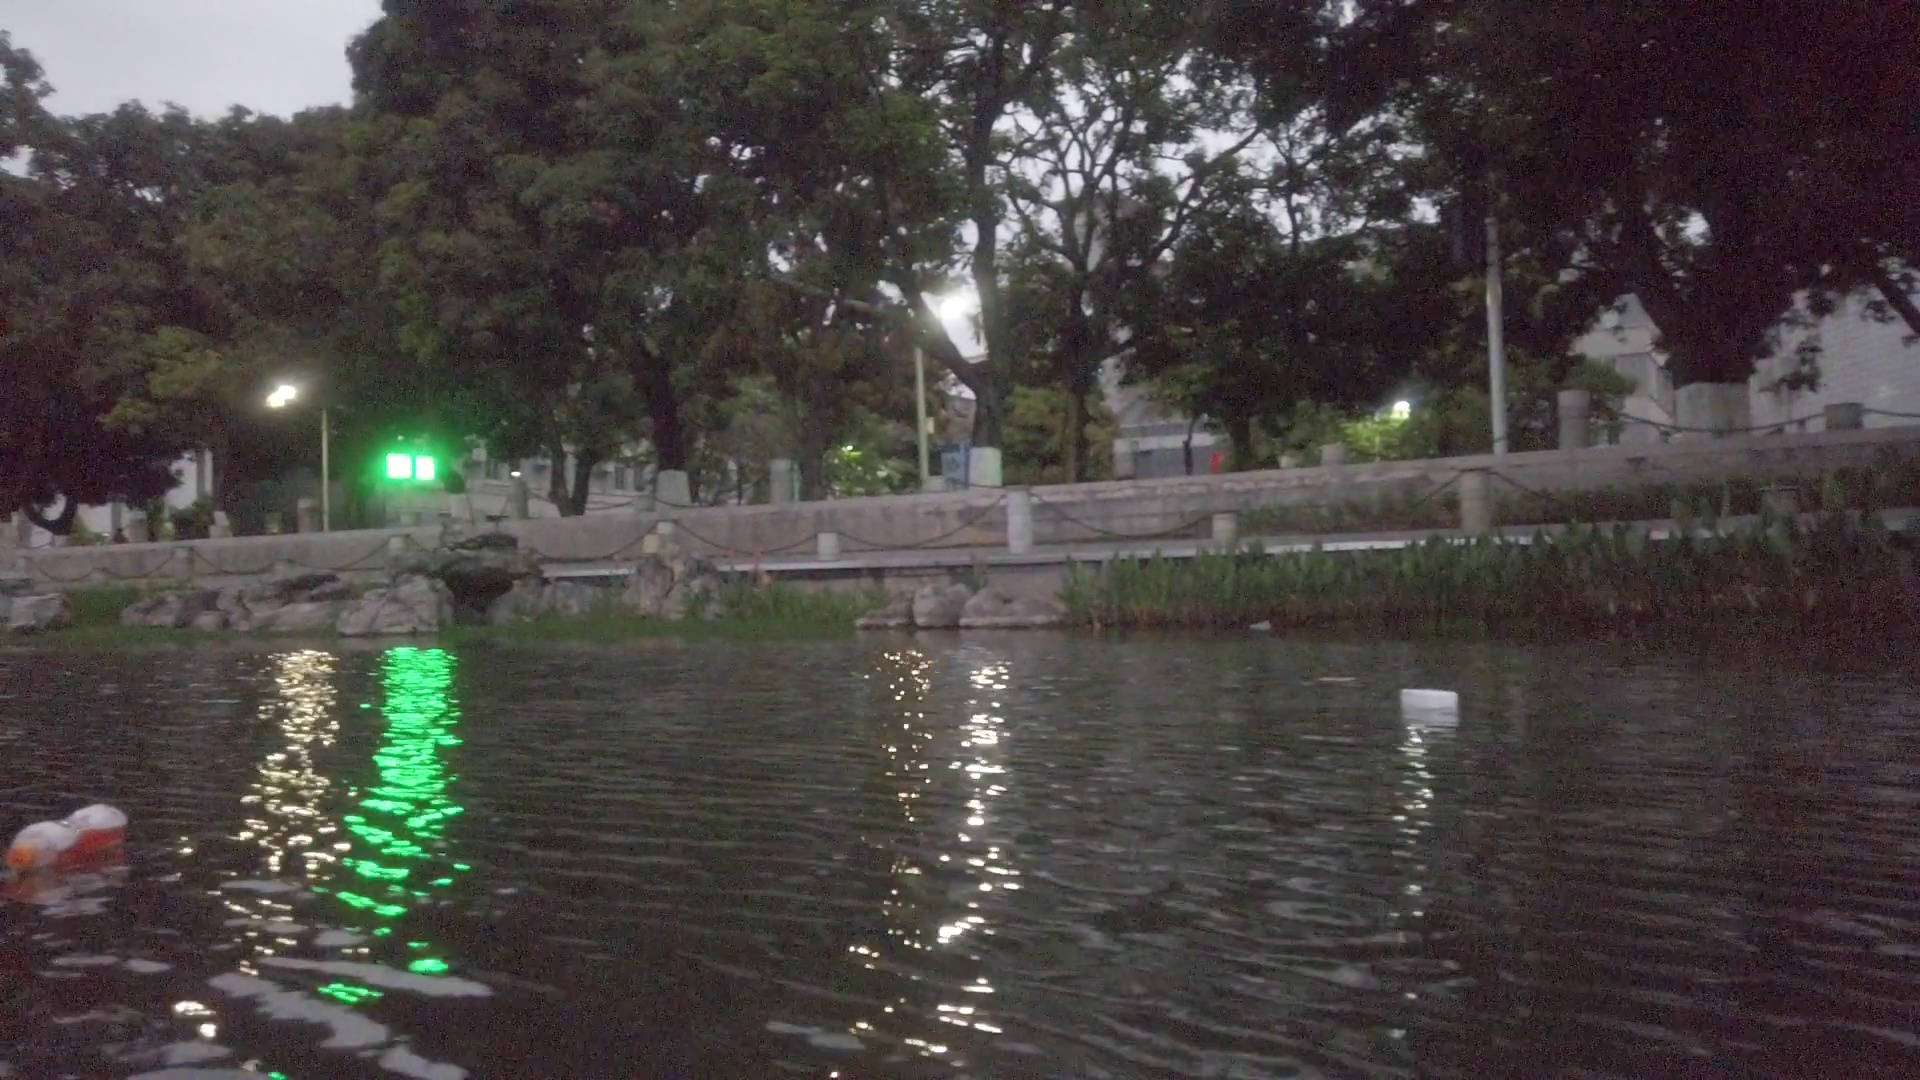bottle: (9, 800, 125, 866)
carton: (1400, 683, 1461, 715)
